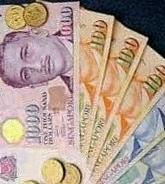1000SingaporeDollar: (0, 2, 79, 184)
